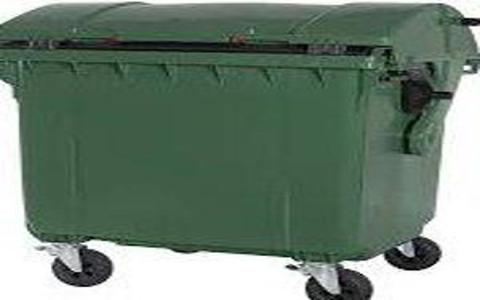Proper garbage: (1, 1, 474, 297)
